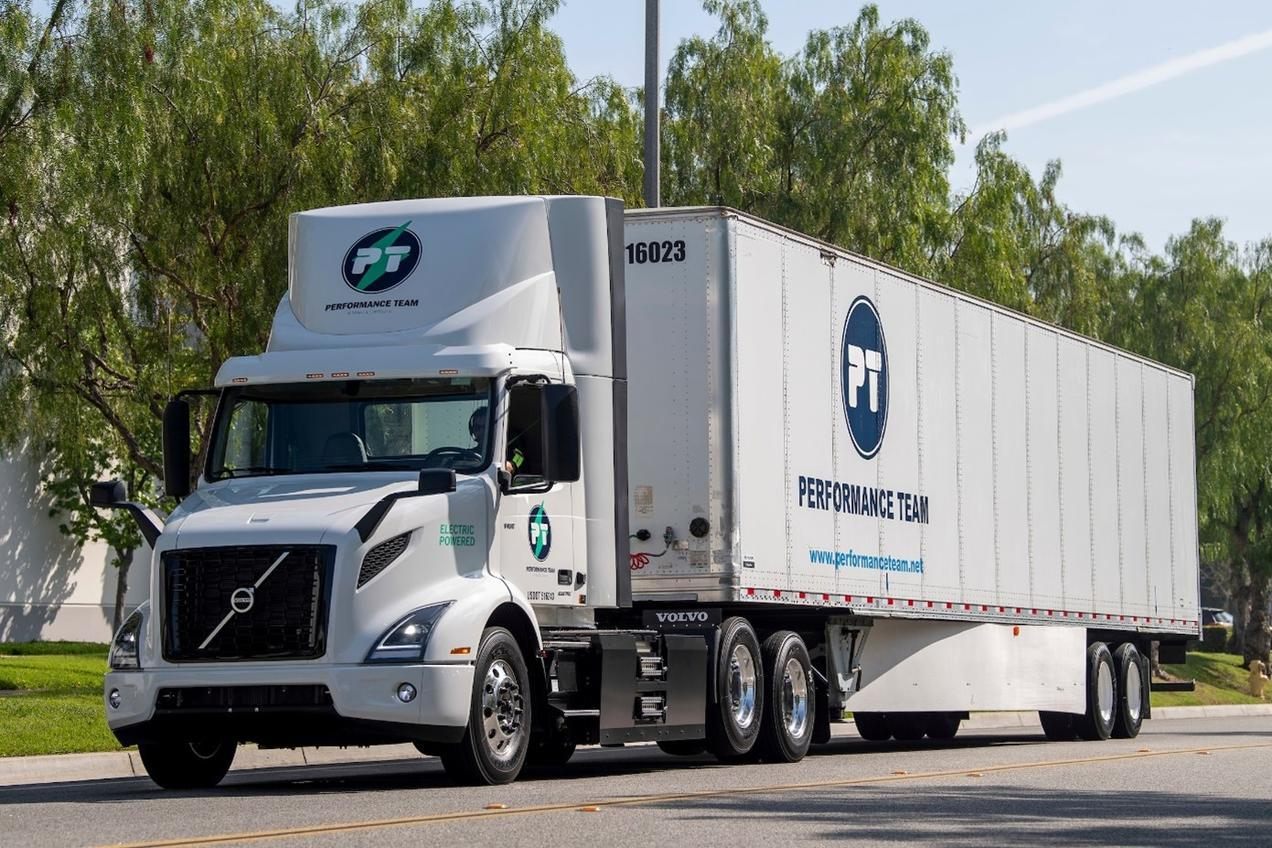truck: (103, 196, 1200, 787)
